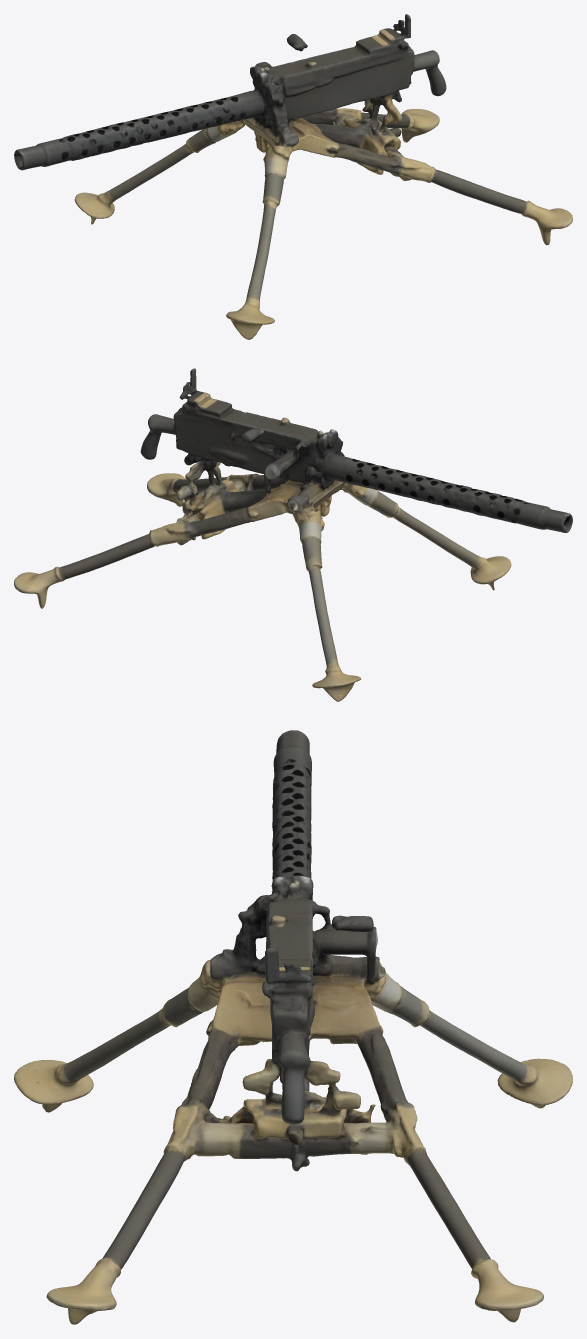
File: Machine Gun.glb
The picture shows the model from 3 angles, top to bottom: view 1: azimuth 30°, elevation 25°; view 2: azimuth 150°, elevation 25°; view 3: azimuth 270°, elevation 25°; orthographic projection. The views are drawn at different scales.
Bounding box in the file's own units: 2 × 0.8553 × 1.27.
1 material, 1 textured.
